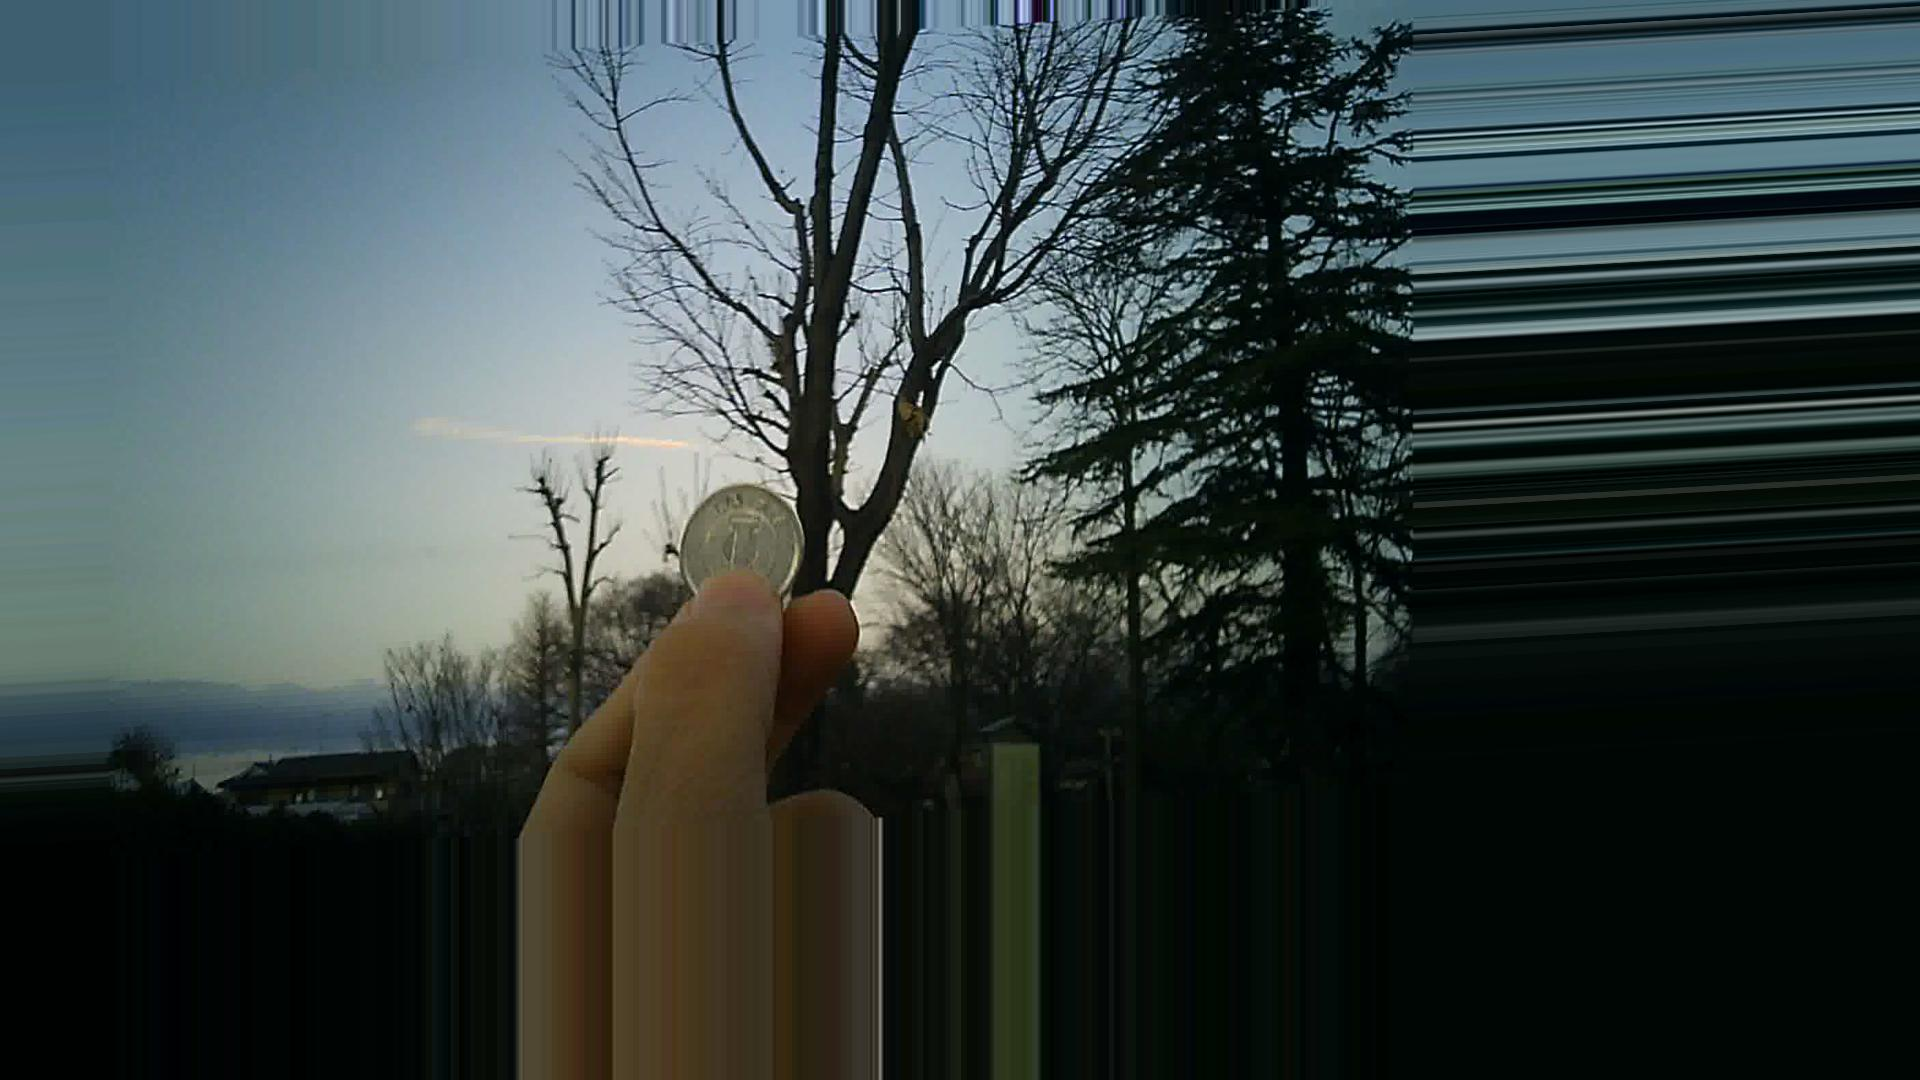1 Yen: (679, 477, 818, 616)
